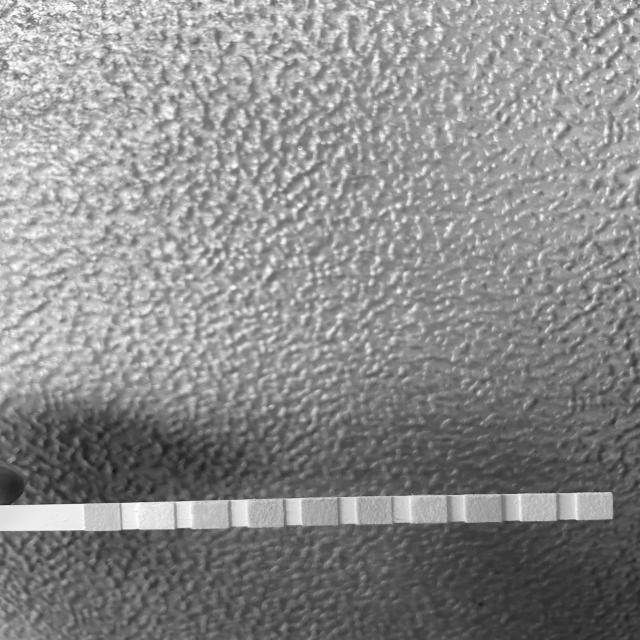Bilirubin: (139, 503, 174, 529)
Blood: (302, 498, 338, 526)
Glucose: (85, 504, 120, 530)
Ketone: (192, 502, 228, 528)
Leukocytes: (577, 494, 612, 519)
Nitrite: (521, 494, 556, 521)
Protein: (412, 496, 446, 522)
SpGravity: (248, 499, 283, 528)
Urobilinogen: (465, 495, 501, 522)
background: (0, 0, 640, 640)
pH: (357, 498, 392, 524)
strip: (12, 493, 612, 532)
